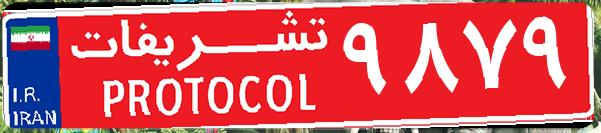7: (460, 20, 520, 115)
8: (400, 20, 460, 115)
9: (340, 20, 400, 115), (520, 20, 580, 115)
تشریفات: (60, 8, 340, 125)
